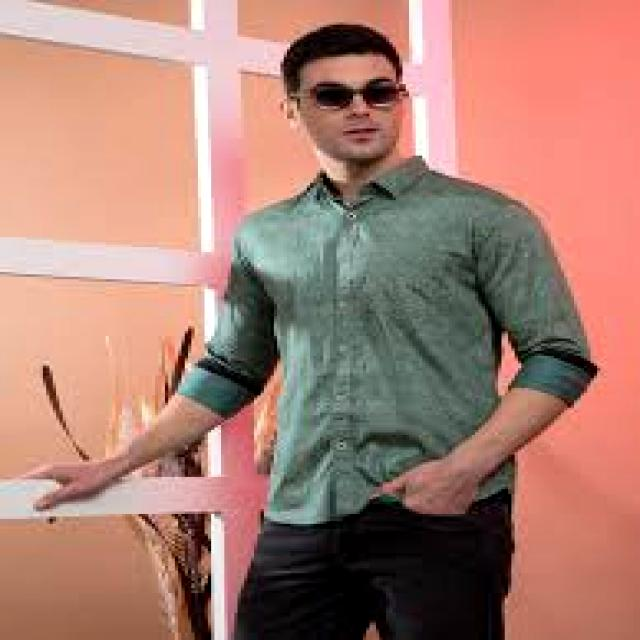face: (288, 55, 405, 165)
lower-wear: (235, 492, 511, 639)
top-wear: (179, 159, 597, 523)
